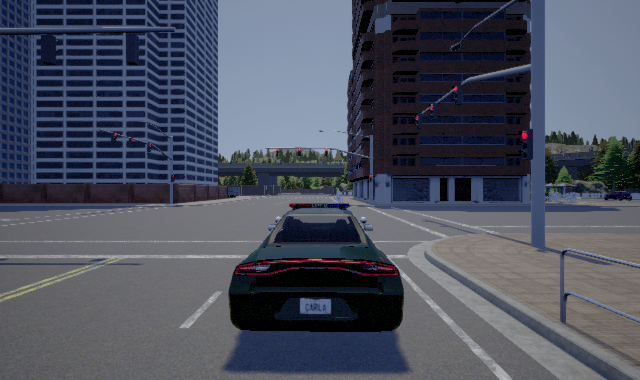traffic_light: (518, 129, 533, 160), (452, 84, 462, 105), (429, 103, 437, 120), (415, 114, 422, 129), (111, 133, 117, 144), (129, 138, 135, 148), (147, 143, 152, 152), (171, 175, 175, 182), (369, 174, 372, 182), (325, 148, 328, 156), (298, 148, 301, 156), (276, 148, 278, 156)
vehicle: (228, 203, 404, 332)
